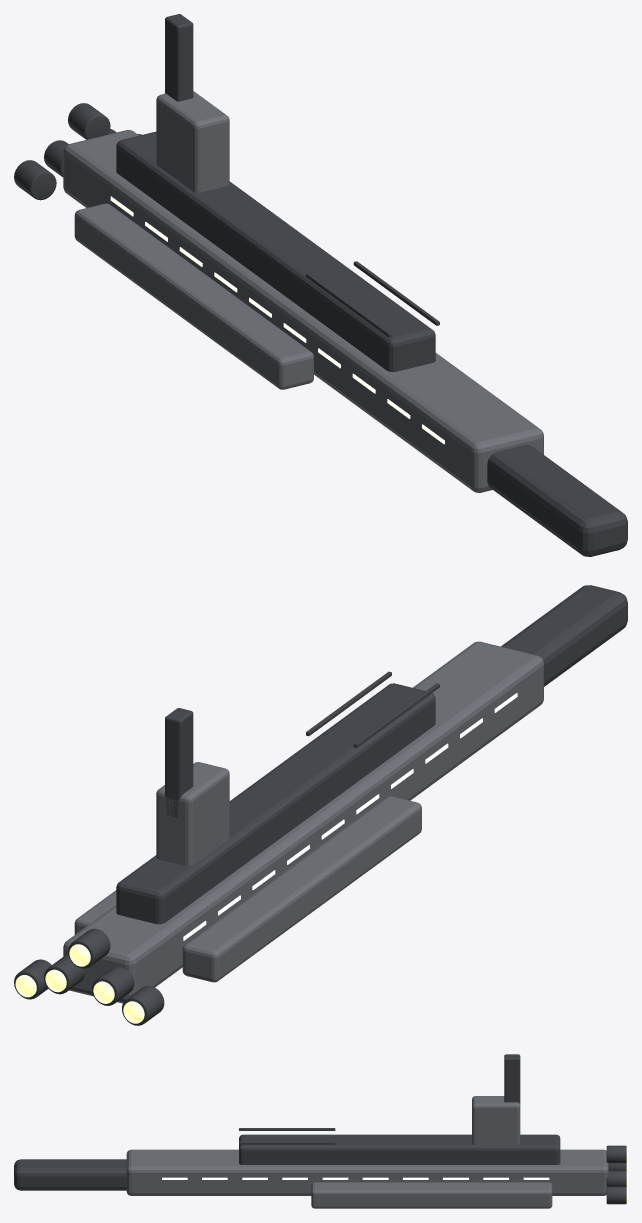
File: cruiser.glb
The picture shows the model from 3 angles, top to bottom: view 1: azimuth 30°, elevation 25°; view 2: azimuth 150°, elevation 25°; view 3: azimuth 270°, elevation 25°; orthographic projection. The views are drawn at different scales.
Visible parts, largest first — view 1: Kiel, Ruecken, Seitenmodul.-1, Bug, Bruecke, Turm, Triebwerk.3, Triebwerk.2; view 2: Kiel, Ruecken, Seitenmodul.-1, Bug, Bruecke, Turm, Triebwerk.2, Triebwerk.3, Triebwerk.0, Triebwerk.1, Triebwerk.4, Seitenmodul.1 (+2 smaller); view 3: Kiel, Ruecken, Seitenmodul.1, Bug, Bruecke, Turm, Triebwerk.4, Triebwerk.2, Antenne.1, Triebwerk.1, Antenne.-1.
Part boxes in pixels (<box>): Kiel: <box>63,130,543,492</box>; Ruecken: <box>116,131,435,371</box>; Seitenmodul.-1: <box>74,203,313,389</box>; Bug: <box>487,445,627,556</box>; Bruecke: <box>156,91,229,192</box>; Turm: <box>165,14,193,101</box>; Triebwerk.3: <box>14,160,56,200</box>; Triebwerk.2: <box>68,103,110,139</box>; Kiel: <box>63,641,543,1003</box>; Ruecken: <box>116,683,435,924</box>; Seitenmodul.-1: <box>182,796,421,982</box>; Bug: <box>501,585,627,686</box>; Bruecke: <box>156,762,229,866</box>; Turm: <box>165,708,193,817</box>; Triebwerk.2: <box>68,928,110,968</box>; Triebwerk.3: <box>122,985,164,1025</box>; Triebwerk.0: <box>92,966,134,1005</box>; Triebwerk.1: <box>44,955,85,994</box>; Triebwerk.4: <box>14,959,51,999</box>; Seitenmodul.1: <box>74,890,116,934</box>; Kiel: <box>126,1149,608,1195</box>; Ruecken: <box>239,1134,560,1164</box>; Seitenmodul.1: <box>311,1182,552,1208</box>; Bug: <box>14,1159,126,1190</box>; Bruecke: <box>472,1096,520,1144</box>; Turm: <box>504,1054,520,1103</box>; Triebwerk.4: <box>606,1186,626,1204</box>; Triebwerk.2: <box>606,1145,626,1163</box>; Antenne.1: <box>239,1141,335,1144</box>; Triebwerk.1: <box>606,1170,626,1186</box>; Antenne.-1: <box>239,1128,335,1130</box>.
Size of the model in its own units: 12 by 18.25 by 76.4.
